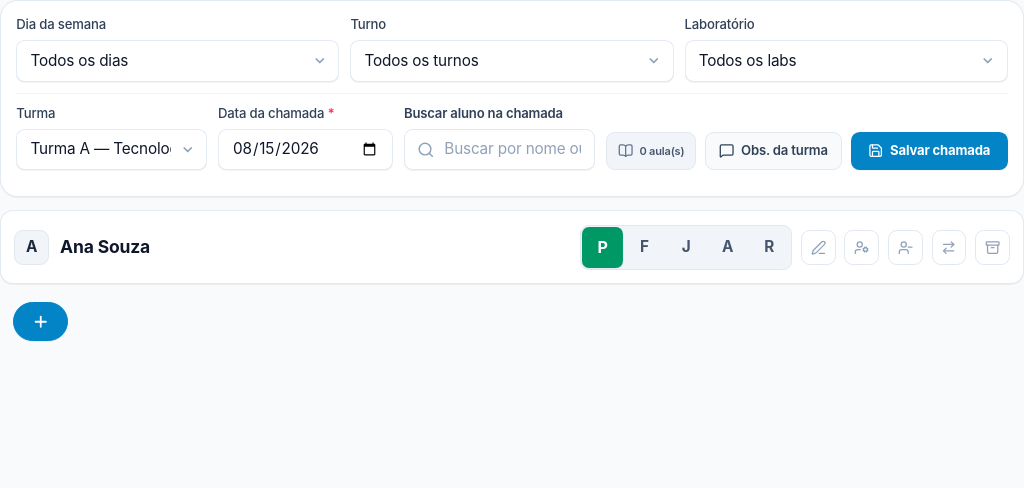
Test case: AttendancePage › searches by registration and exposes individual and general notes
Expected: the text "Ana Souza" is shown, 60,234 -> 150,261
Type "001" into the field labelled "Buscar aluno na chamada". click: (499, 149)
box: 404,129 -> 595,170
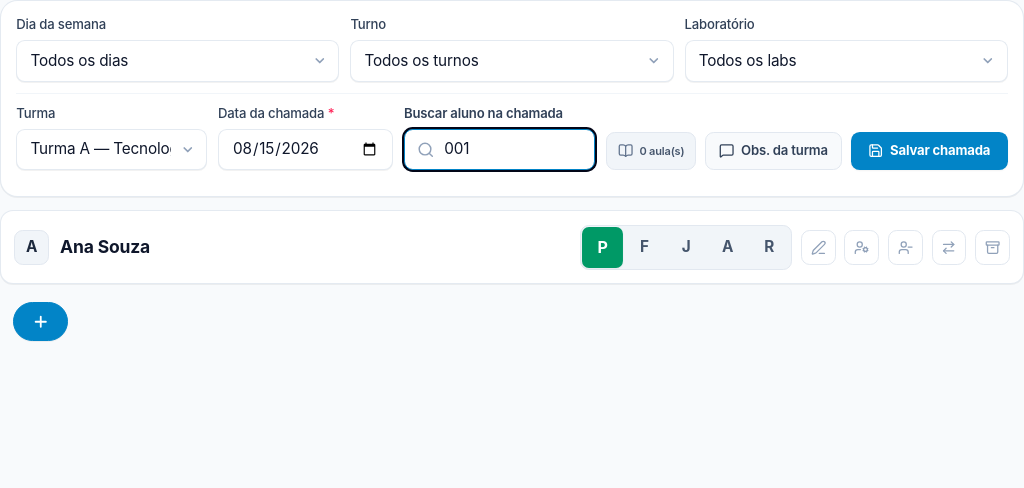
Expected: the text "Ana Souza" is shown, 60,234 -> 150,261
Replace the text in the field labelled "Buscar aluno na chamada" with "inexistente". click: (499, 149)
box: 404,129 -> 595,170
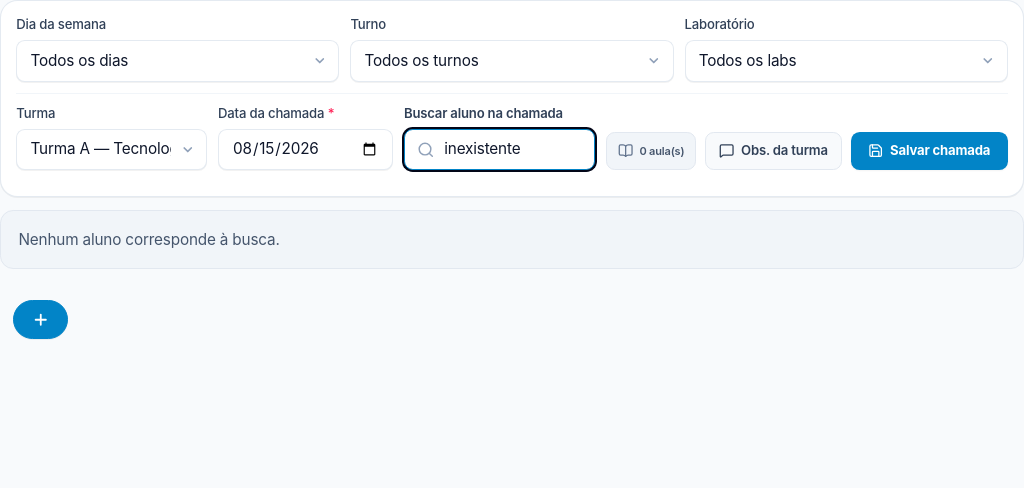
Result: the text "Nenhum aluno corresponde à busca." is shown at 0,210 -> 1023,269
Clear the field labelled "Buscar aluno na chamada". click: (499, 149)
box: 404,129 -> 595,170
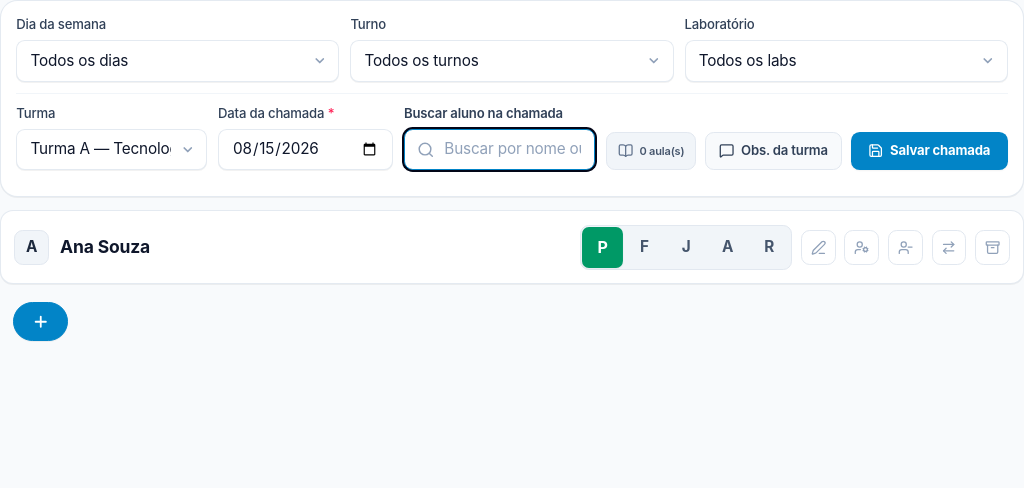
Click the button named "Anotação de Ana Souza". click: (818, 247)
box: 801,230 -> 836,265
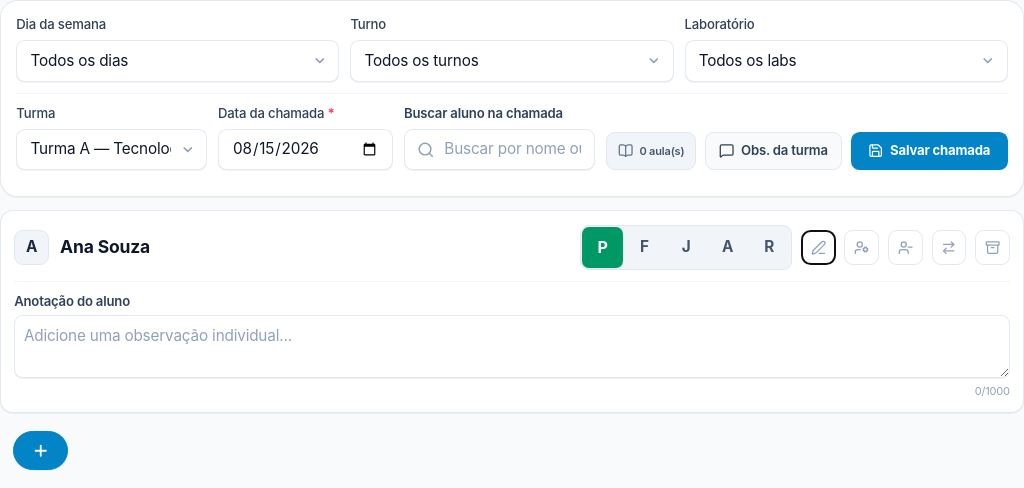
Result: the text box labelled "Anotação do aluno" is enabled at 14,315 -> 1010,378
